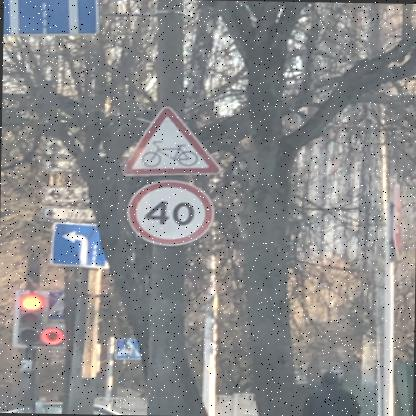speedlimit: (124, 180, 212, 246)
trafficlight: (14, 292, 64, 346)
